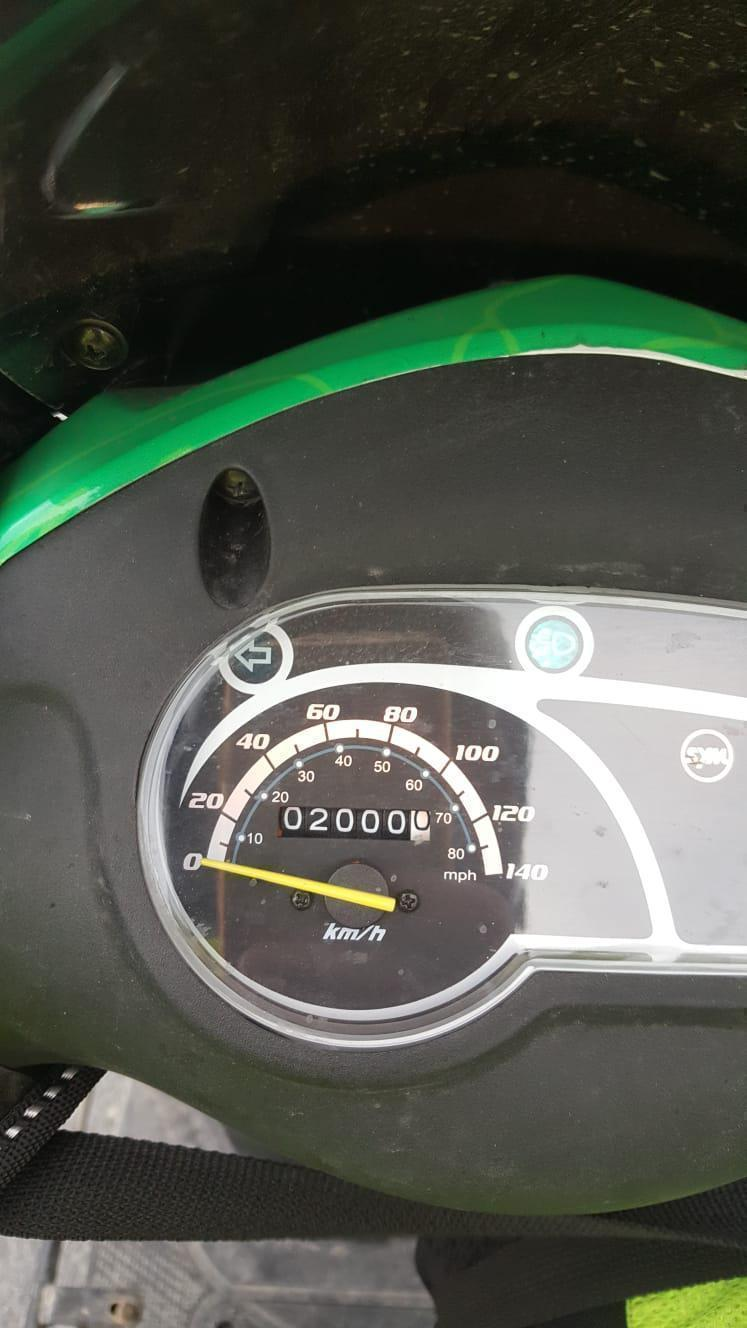0: (360, 807, 382, 837), (385, 807, 406, 837), (281, 806, 302, 832), (334, 807, 354, 834), (411, 807, 431, 833)
2: (307, 807, 329, 835)
odometer: (276, 803, 434, 845)
